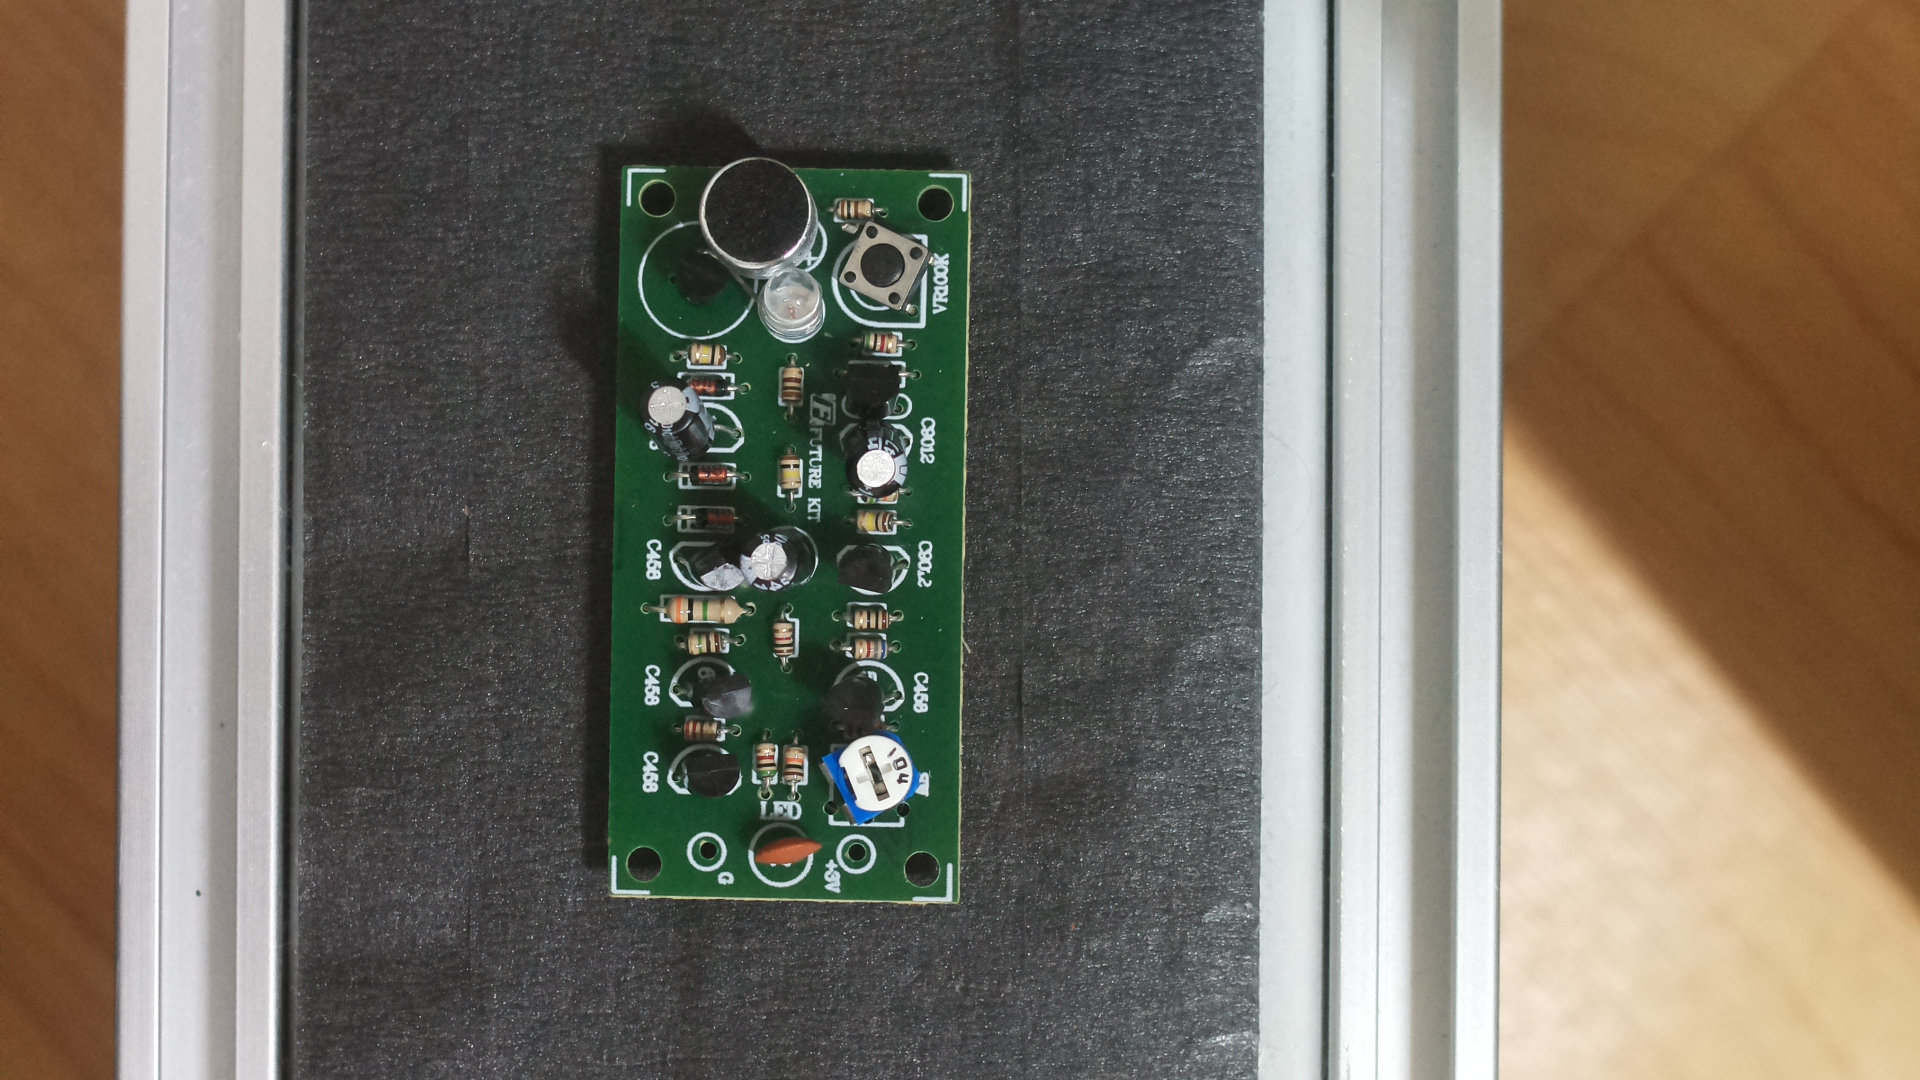A_Misordered: (591, 138, 992, 931)
